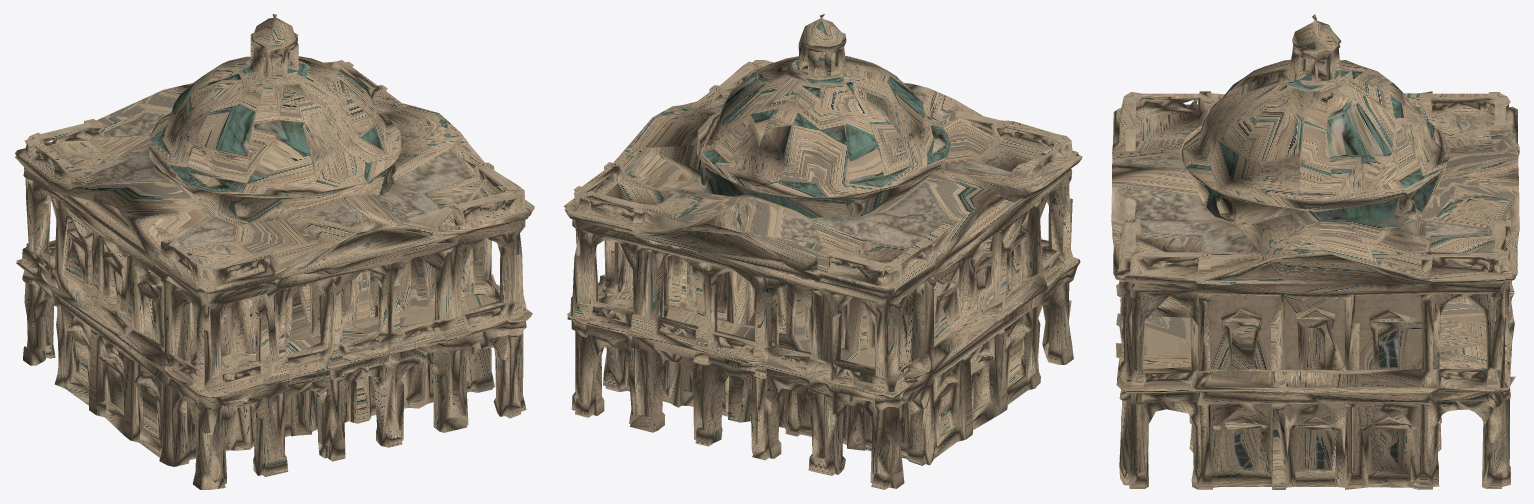
File: theed.lod1.glb
3 renders of one model, left to right at view 1: azimuth 30°, elevation 25°; view 2: azimuth 150°, elevation 25°; view 3: azimuth 270°, elevation 25°, orthographic. The views are drawn at different scales.
Visible parts, largest first — view 1: theed; view 2: theed; view 3: theed.
Part boxes in pixels (x1=…): theed: x1=15, y1=14, x2=534, y2=489; theed: x1=563, y1=14, x2=1082, y2=489; theed: x1=1111, y1=14, x2=1519, y2=489.
Bounding box in the file's own units: 35 × 36.48 × 34.57.
Materials: 1 (1 with a texture image).
